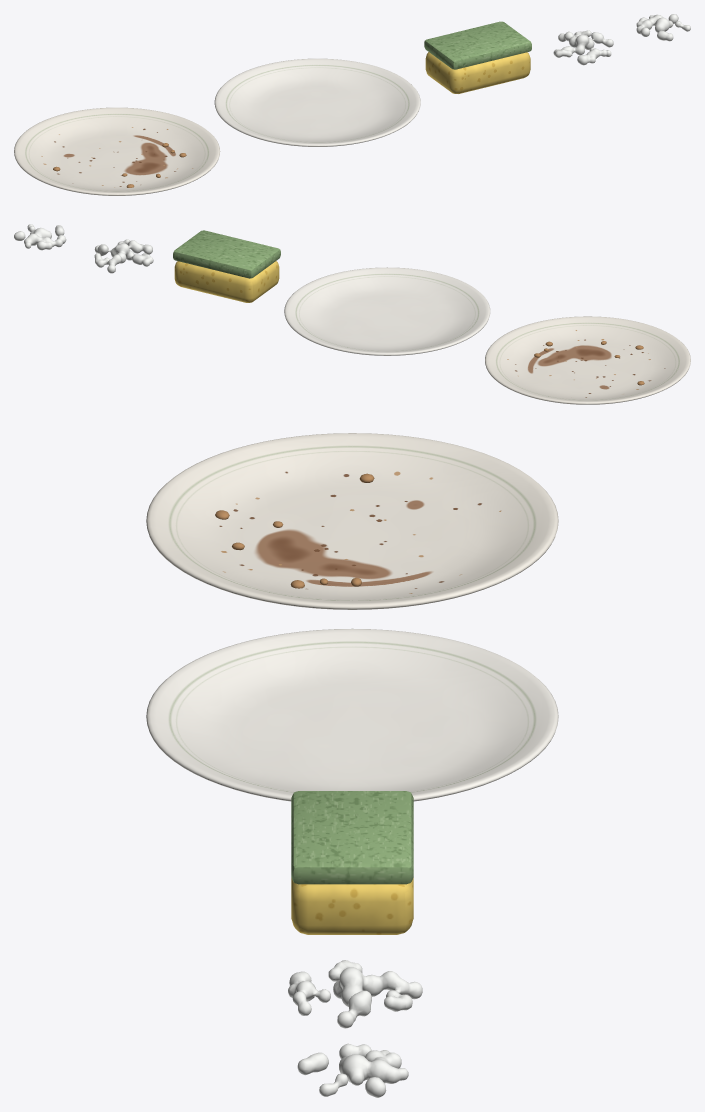
Rendered from dishes.glb.
3 renders of one model, top to bottom at view 1: azimuth 30°, elevation 25°; view 2: azimuth 150°, elevation 25°; view 3: azimuth 270°, elevation 25°, orthographic. The views are drawn at different scales.
Parts seen in each view (by area): view 1: plate_dirty, plate_clean, sponge, suds_puff, suds_dab; view 2: plate_clean, plate_dirty, sponge, suds_puff, suds_dab; view 3: plate_dirty, plate_clean, sponge, suds_puff, suds_dab.
Boxes of the visible parts, <box> form: plate_dirty: <box>14,107,220,195</box>; plate_clean: <box>214,58,420,146</box>; sponge: <box>424,21,531,93</box>; suds_puff: <box>553,30,613,65</box>; suds_dab: <box>636,14,690,41</box>; plate_clean: <box>284,267,490,355</box>; plate_dirty: <box>485,316,690,404</box>; sponge: <box>173,230,280,302</box>; suds_puff: <box>94,239,153,273</box>; suds_dab: <box>14,224,66,250</box>; plate_dirty: <box>146,433,558,609</box>; plate_clean: <box>146,628,558,801</box>; sponge: <box>291,791,413,934</box>; suds_puff: <box>288,960,422,1028</box>; suds_dab: <box>297,1043,408,1097</box>.
Size of the model in its own units: 0.8182 by 0.0443 by 0.2226.
Materials: 6 (4 with a texture image).
